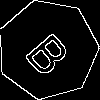B: (23, 24, 80, 80)
